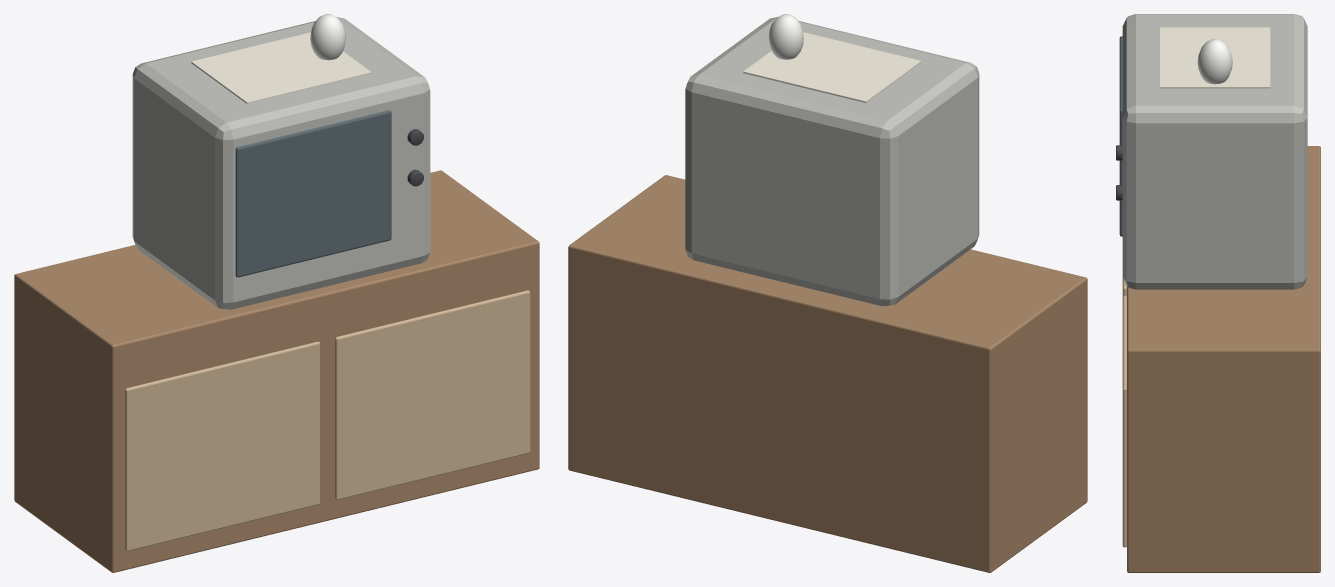
File: v2_tv_cabinet.fbx
3 views of the same model, side by side, from view 1: azimuth 30°, elevation 25°; view 2: azimuth 150°, elevation 25°; view 3: azimuth 270°, elevation 25° (orthographic).
Visible parts, largest first — view 1: Cabinet, TV, CabDoorR, CabDoorL, Screen, Doily, Figurine; view 2: Cabinet, TV, Doily, Figurine; view 3: Cabinet, TV, Doily, Figurine, CabDoorR, Screen.
Boxes of the visible parts, <box> form: Cabinet: <box>14,170,539,572</box>; TV: <box>132,17,430,309</box>; CabDoorR: <box>335,290,530,500</box>; CabDoorL: <box>125,341,319,551</box>; Screen: <box>235,110,391,277</box>; Doily: <box>191,32,371,103</box>; Figurine: <box>310,14,345,60</box>; Cabinet: <box>568,175,1087,572</box>; TV: <box>685,17,979,306</box>; Doily: <box>743,32,921,102</box>; Figurine: <box>768,14,803,59</box>; Cabinet: <box>1127,146,1320,572</box>; TV: <box>1122,14,1307,289</box>; Doily: <box>1160,27,1270,88</box>; Figurine: <box>1197,39,1232,84</box>; CabDoorR: <box>1122,296,1126,547</box>; Screen: <box>1119,36,1122,236</box>.
Size of the model in its own units: 1.1 by 1.14 by 0.465.
